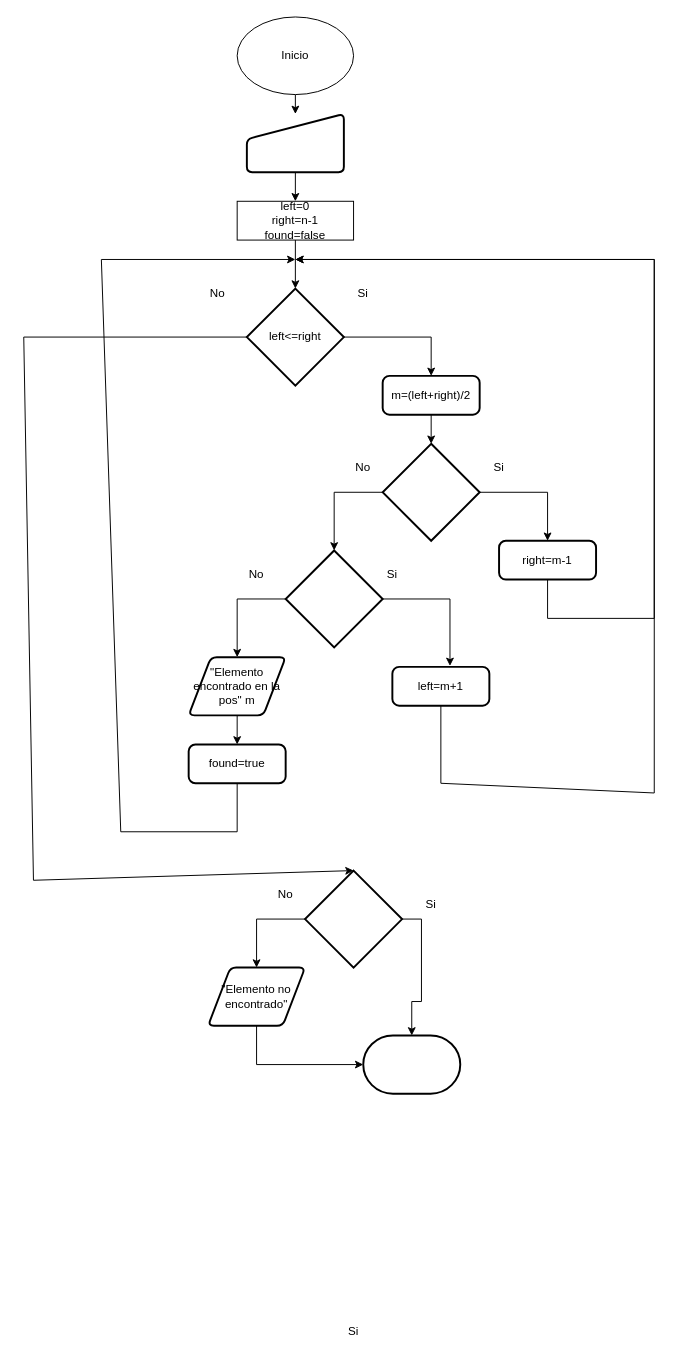
Some shapes in this 679 by 1363 pixel diagram are drawn without their labels. Each missing label, with the centre of its shape:
"arr[m]<elem" belongs at point (333, 598).
"arr[m]>elem" belongs at point (430, 491).
"elem, n" belongs at point (294, 143).
"Fin" belongs at point (411, 1064).
"found" belongs at point (353, 918).
